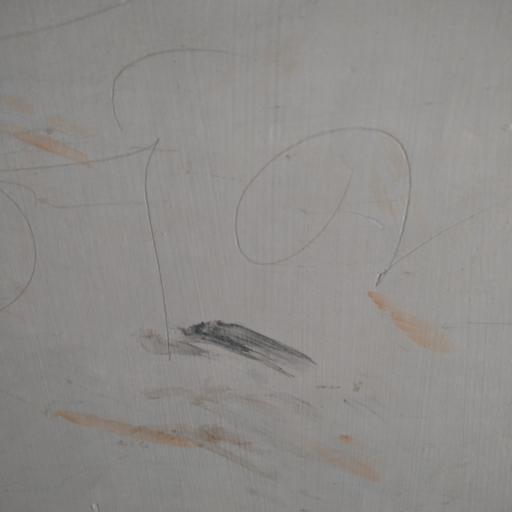stain: (8, 5, 512, 512)
